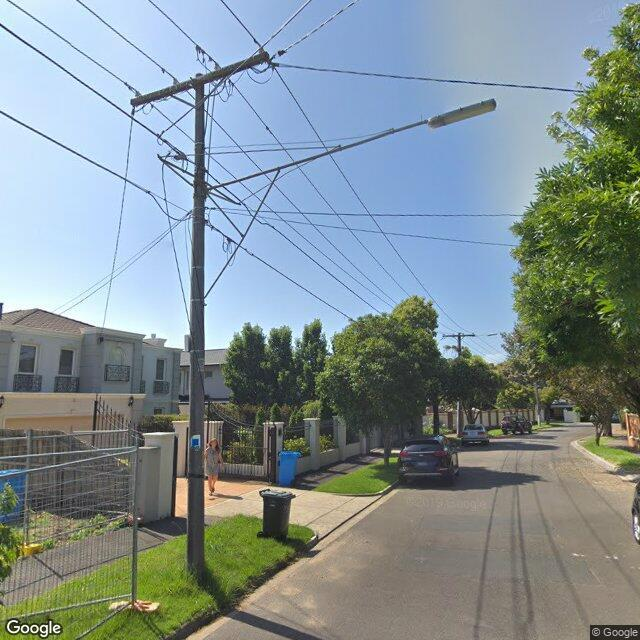concrete-pole: (187, 72, 204, 573), (456, 334, 462, 438)
crossarm: (130, 52, 270, 106), (442, 334, 475, 337)
streetlight: (203, 99, 497, 192), (476, 333, 498, 338)
